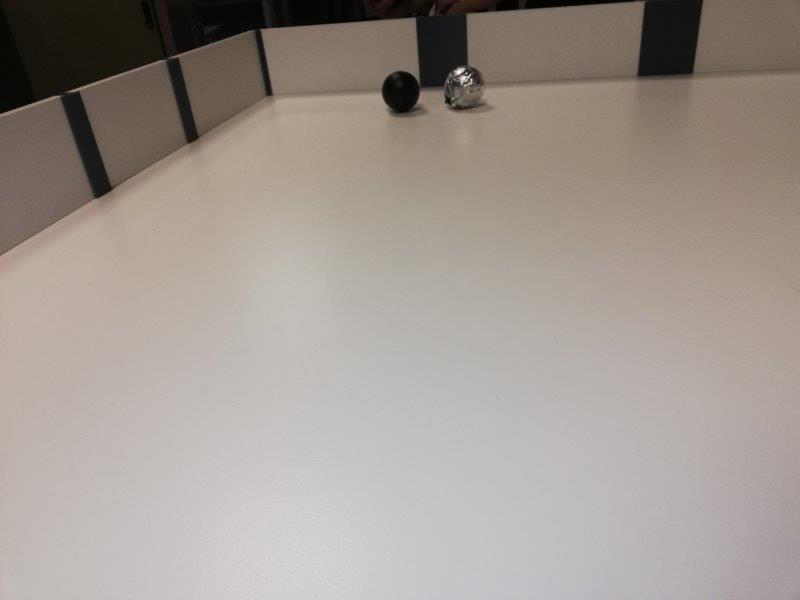bianca: (443, 65, 484, 108)
nera: (383, 71, 420, 114)
